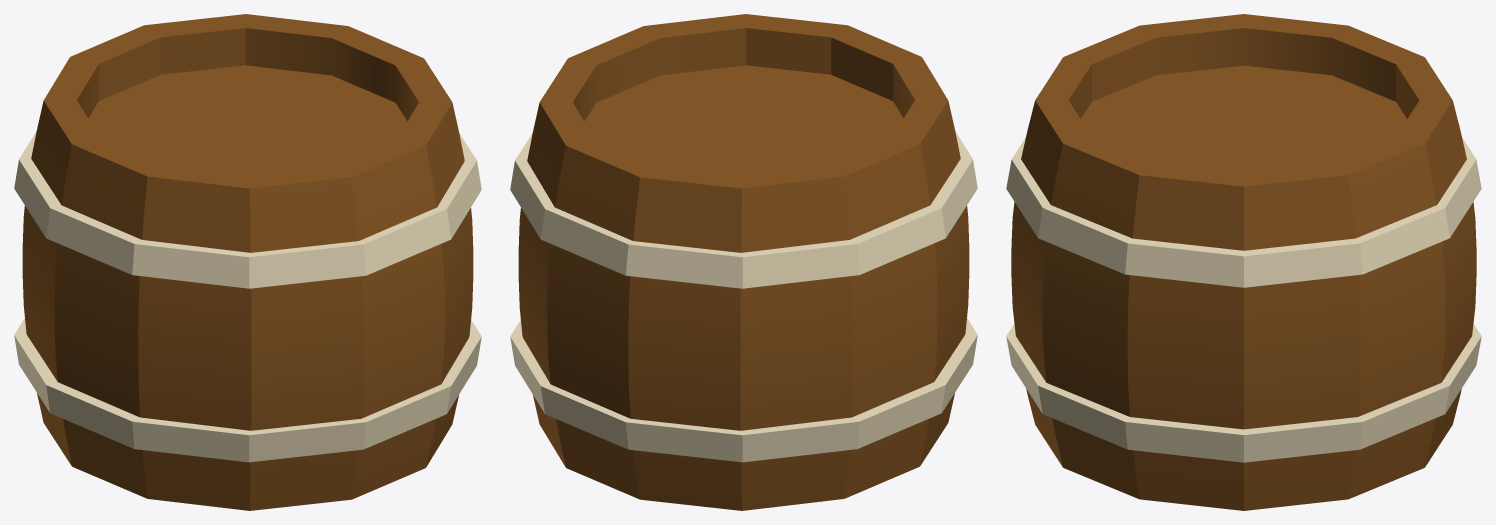
File: barril.fbx
The picture shows the model from 3 angles, left to right: view 1: azimuth 30°, elevation 25°; view 2: azimuth 150°, elevation 25°; view 3: azimuth 270°, elevation 25°; orthographic projection.
Parts seen in each view (by area): view 1: Barriu; view 2: Barriu; view 3: Barriu.
Boxes of the visible parts, <box> form: Barriu: <box>14,14,481,510</box>; Barriu: <box>510,14,977,510</box>; Barriu: <box>1006,14,1481,510</box>.
Bounding box in the file's own units: 1.69 × 1.29 × 1.71.
